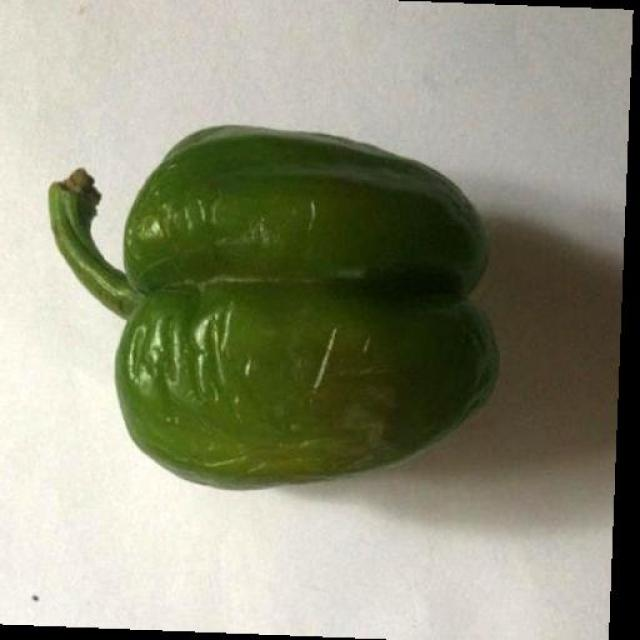Stale_Capsicum: (44, 97, 545, 533)
